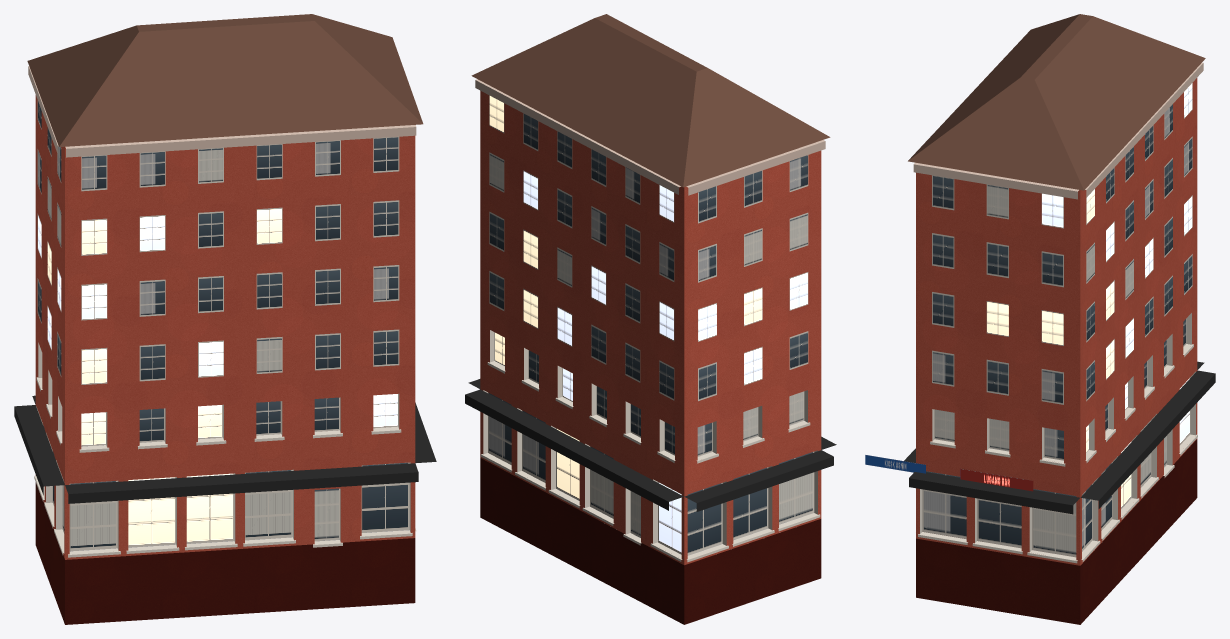
File: langB_lugano.glb
The picture shows the model from 3 angles, left to right: view 1: azimuth 30°, elevation 25°; view 2: azimuth 150°, elevation 25°; view 3: azimuth 270°, elevation 25°; orthographic projection. The views are drawn at different scales.
Visible parts, largest first — view 1: langB_lugano; view 2: langB_lugano; view 3: langB_lugano.
Boxes of the visible parts, x1=… form: langB_lugano: x1=14, y1=14, x2=436, y2=624; langB_lugano: x1=465, y1=14, x2=836, y2=624; langB_lugano: x1=865, y1=14, x2=1215, y2=624.
Bounding box in the file's own units: 18.41 × 25.4 × 16.1.
Materials: 3 (3 with a texture image).
